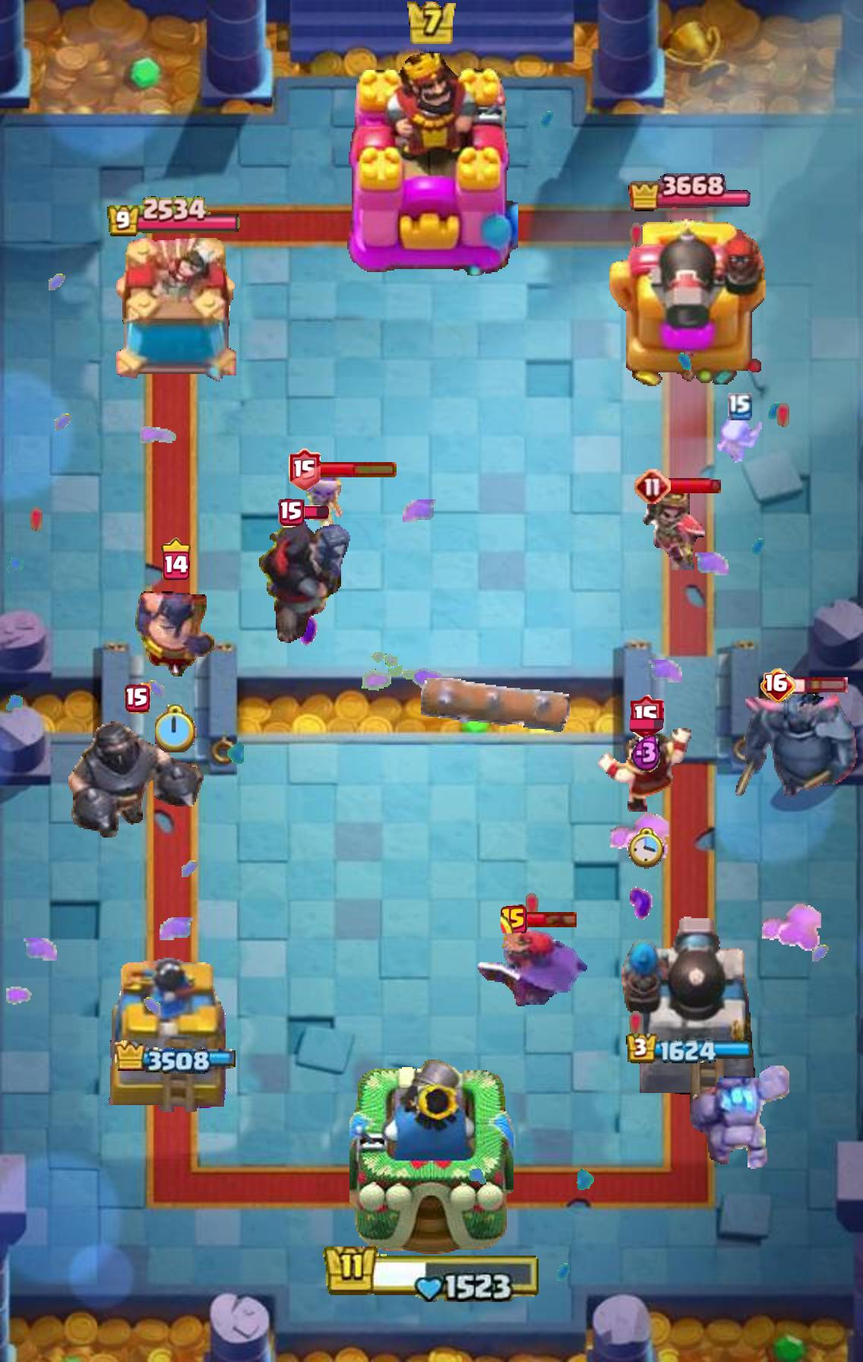bar: (317, 460, 397, 478), (792, 676, 849, 695), (667, 477, 722, 496), (524, 910, 579, 928), (300, 505, 329, 521)
bar-level: (630, 695, 664, 740), (634, 468, 671, 505), (289, 449, 321, 491), (161, 538, 191, 581), (760, 668, 796, 703), (124, 682, 151, 713), (501, 905, 528, 934), (278, 499, 305, 527)
